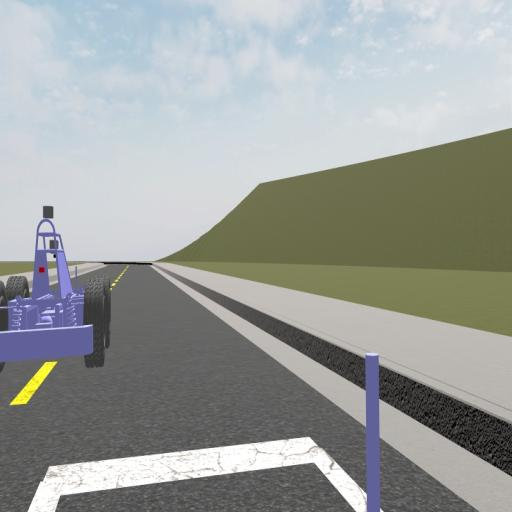ERP-42: (0, 204, 112, 376)
